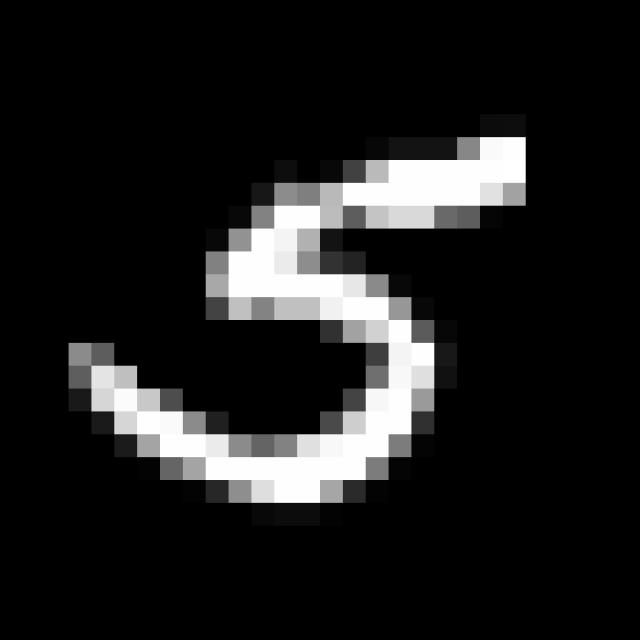five -5-: (66, 134, 538, 510)
